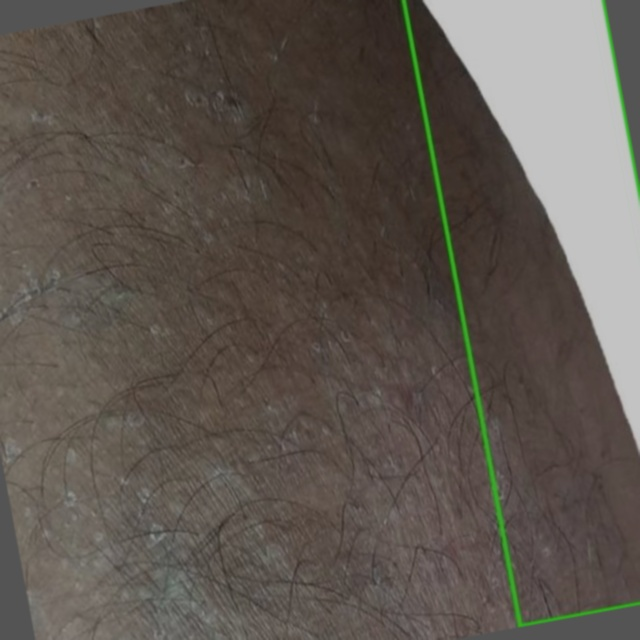Contact Dermatitis: (403, 0, 639, 626)
